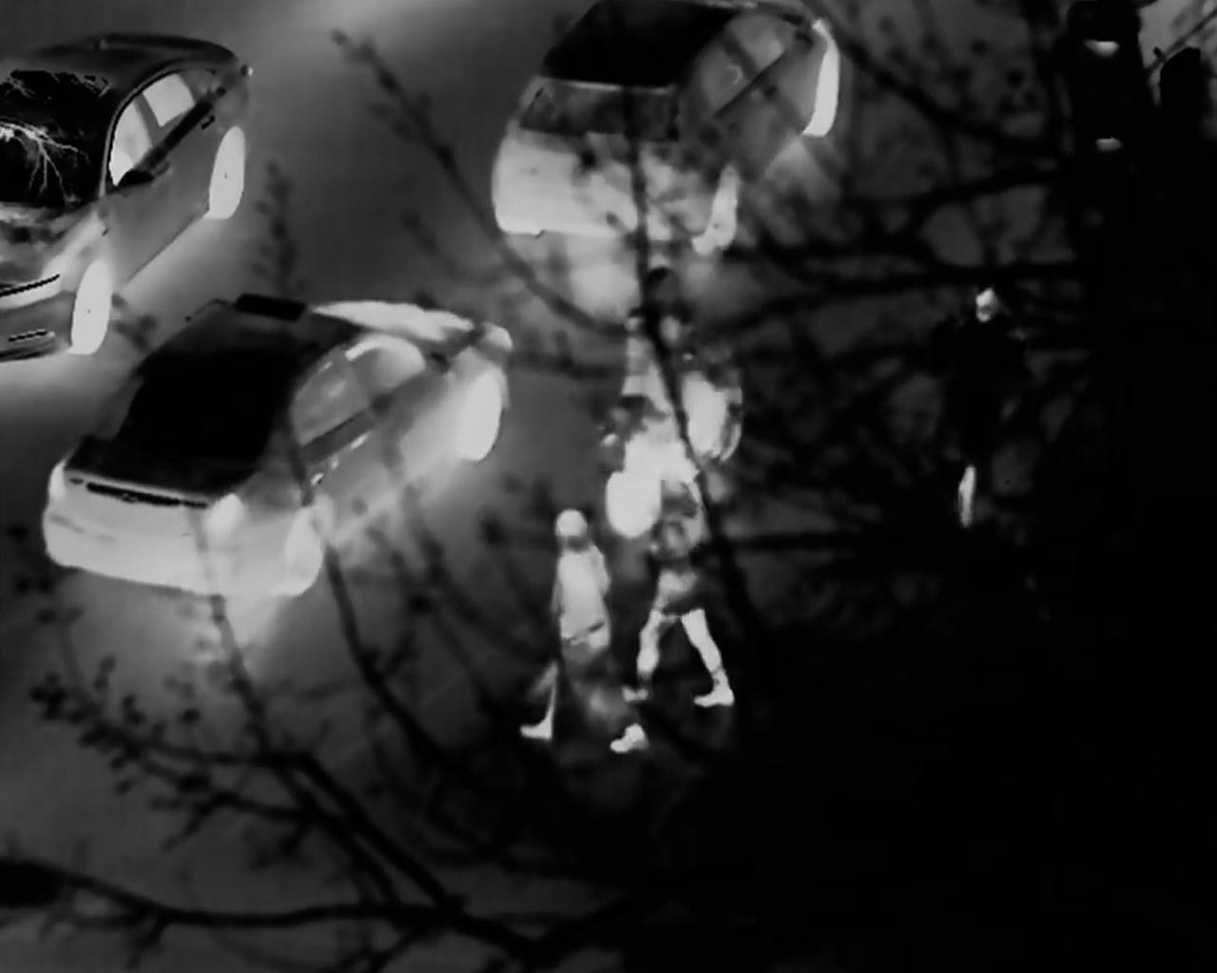person: (538, 509, 646, 760), (634, 468, 742, 702)
